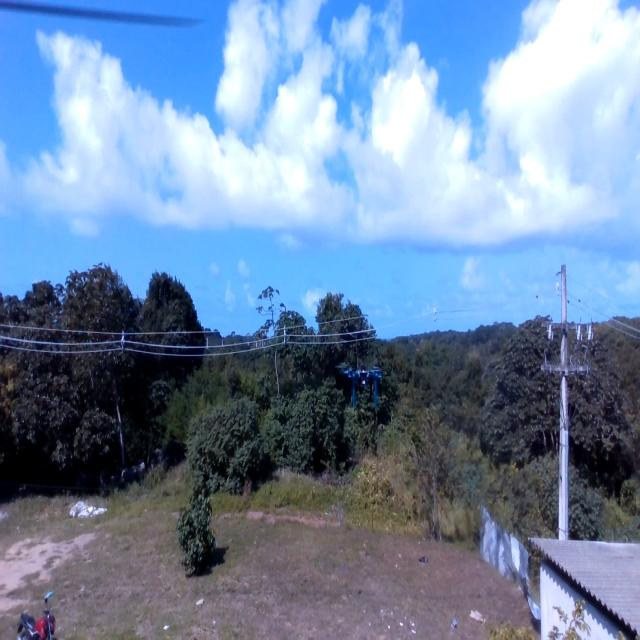-uav-: (334, 356, 390, 416)
